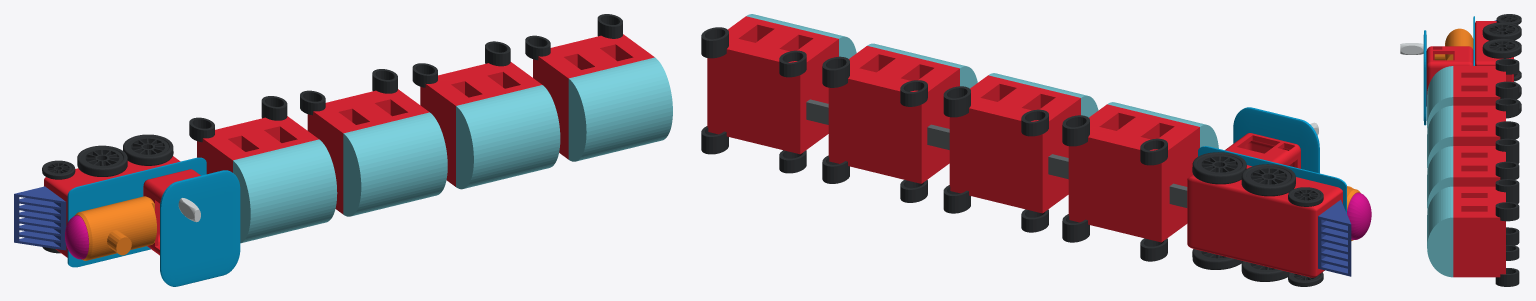
Rendered from tinker.obj.
The picture shows the model from 3 angles, left to right: view 1: azimuth 30°, elevation 25°; view 2: azimuth 150°, elevation 25°; view 3: azimuth 270°, elevation 25°; orthographic projection. The views are drawn at different scales.
Parts seen in each view (by area): view 1: group_0_7720667, group_0_15277357, group_0_40919, group_0_2829873, group_0_16089887, group_0_3888547, group_0_14093196; view 2: group_0_15277357, group_0_2829873, group_0_40919, group_0_7720667, group_0_3888547, group_0_6383466, group_0_14093196; view 3: group_0_15277357, group_0_2829873, group_0_7720667, group_0_16089887, group_0_40919, group_0_14541540.
Part boxes in pixels (x1,y1,x2,y2): group_0_7720667: (233,57,672,243); group_0_15277357: (44,34,654,257); group_0_40919: (67,157,240,286); group_0_2829873: (42,14,622,253); group_0_16089887: (74,196,156,260); group_0_3888547: (14,186,66,250); group_0_14093196: (65,215,88,259); group_0_15277357: (707,16,1342,277); group_0_2829873: (701,27,1323,286); group_0_40919: (1198,107,1346,213); group_0_7720667: (746,14,1218,148); group_0_3888547: (1318,200,1351,276); group_0_6383466: (806,99,1187,207); group_0_14093196: (1347,192,1371,239); group_0_15277357: (1426,21,1513,277); group_0_2829873: (1482,14,1521,286); group_0_7720667: (1427,66,1453,277); group_0_16089887: (1434,28,1473,60); group_0_40919: (1423,16,1474,125); group_0_14541540: (1400,43,1423,54).
Bounding box in the file's own units: 401 × 67 × 95.
